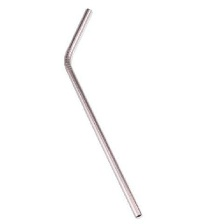drinking_straw: (59, 4, 148, 221)
